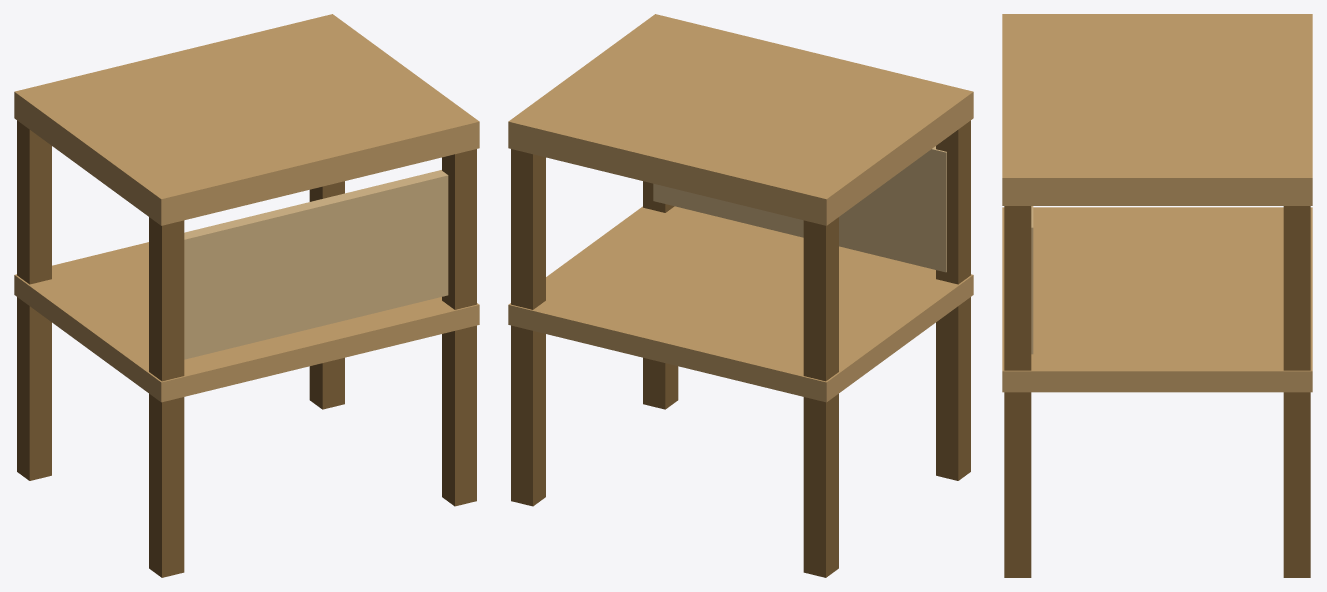
Rendered from nightstand_oak.glb.
The picture shows the model from 3 angles, left to right: view 1: azimuth 30°, elevation 25°; view 2: azimuth 150°, elevation 25°; view 3: azimuth 270°, elevation 25°; orthographic projection. The views are drawn at different scales.
Visible parts, largest first — view 1: nightstand_oak; view 2: nightstand_oak; view 3: nightstand_oak.
Boxes of the visible parts, <box> form: nightstand_oak: <box>14,14,479,577</box>; nightstand_oak: <box>508,14,973,577</box>; nightstand_oak: <box>1002,14,1312,577</box>.
Size of the model in its own units: 0.5 by 0.57 by 0.4.
